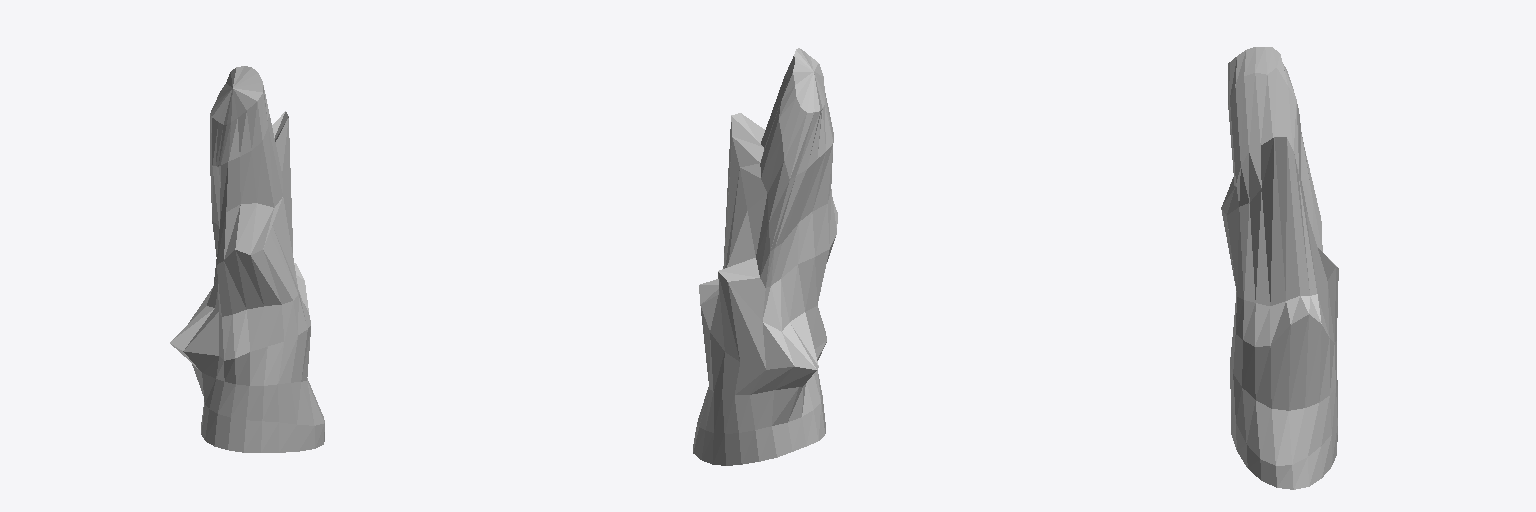
File: Spike.obj
3 views of the same model, side by side, from view 1: azimuth 30°, elevation 25°; view 2: azimuth 150°, elevation 25°; view 3: azimuth 270°, elevation 25° (orthographic).
Visible parts, largest first — view 1: pCylinder1; view 2: pCylinder1; view 3: pCylinder1.
Boxes of the visible parts, x1=… form: pCylinder1: x1=170, y1=66, x2=324, y2=452; pCylinder1: x1=693, y1=48, x2=837, y2=465; pCylinder1: x1=1221, y1=47, x2=1338, y2=489.
Size of the model in its own units: 6.52 by 18.48 by 4.89.